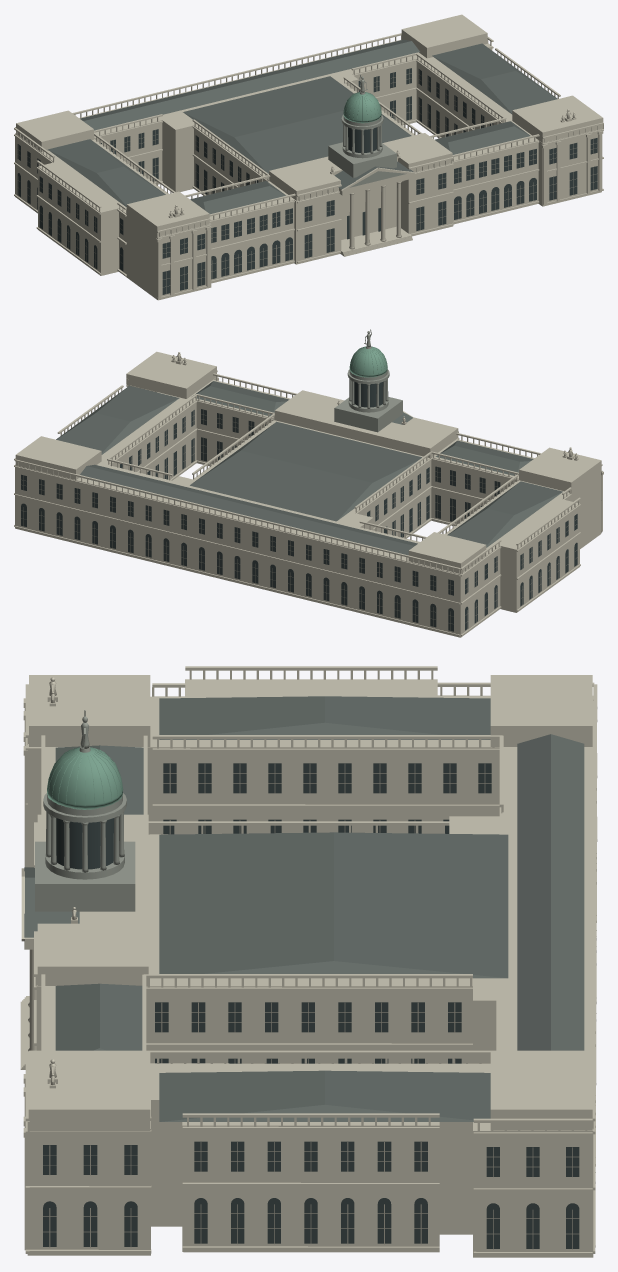
The model's file is custom-house-dublin-near.glb.
The picture shows the model from 3 angles, top to bottom: view 1: azimuth 30°, elevation 25°; view 2: azimuth 150°, elevation 25°; view 3: azimuth 270°, elevation 25°; orthographic projection. The views are drawn at different scales.
Visible parts, largest first — view 1: custom-house-dublin-0-stone, custom-house-dublin-0-roof, custom-house-dublin-0-glass, custom-house-dublin-0-drum, custom-house-dublin-0-frame, custom-house-dublin-0-copper; view 2: custom-house-dublin-0-stone, custom-house-dublin-0-roof, custom-house-dublin-0-glass, custom-house-dublin-0-drum, custom-house-dublin-0-frame, custom-house-dublin-0-copper; view 3: custom-house-dublin-0-stone, custom-house-dublin-0-roof, custom-house-dublin-0-glass, custom-house-dublin-0-drum, custom-house-dublin-0-frame, custom-house-dublin-0-copper.
Part boxes in pixels (left/top/right/bottom): custom-house-dublin-0-stone: left=14, top=14, right=603, bottom=300; custom-house-dublin-0-roof: left=48, top=39, right=557, bottom=214; custom-house-dublin-0-glass: left=17, top=68, right=597, bottom=294; custom-house-dublin-0-drum: left=328, top=74, right=406, bottom=187; custom-house-dublin-0-frame: left=17, top=69, right=597, bottom=293; custom-house-dublin-0-copper: left=343, top=92, right=381, bottom=123; custom-house-dublin-0-stone: left=14, top=351, right=603, bottom=637; custom-house-dublin-0-roof: left=56, top=381, right=562, bottom=555; custom-house-dublin-0-glass: left=21, top=382, right=577, bottom=631; custom-house-dublin-0-drum: left=334, top=329, right=402, bottom=432; custom-house-dublin-0-frame: left=21, top=410, right=577, bottom=630; custom-house-dublin-0-copper: left=349, top=346, right=387, bottom=377; custom-house-dublin-0-stone: left=20, top=666, right=597, bottom=1257; custom-house-dublin-0-roof: left=24, top=696, right=584, bottom=1121; custom-house-dublin-0-glass: left=43, top=763, right=579, bottom=1248; custom-house-dublin-0-drum: left=35, top=710, right=135, bottom=911; custom-house-dublin-0-frame: left=43, top=763, right=596, bottom=1249; custom-house-dublin-0-copper: left=47, top=747, right=123, bottom=809.
Size of the model in its own units: 120 by 40 by 64.44.
